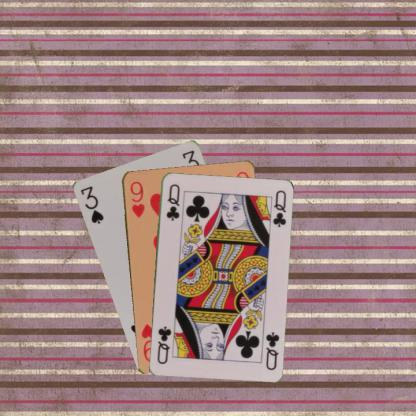3s: (78, 183, 105, 225)
9h: (127, 179, 146, 219)
Qc: (263, 328, 280, 372), (163, 181, 181, 221)
